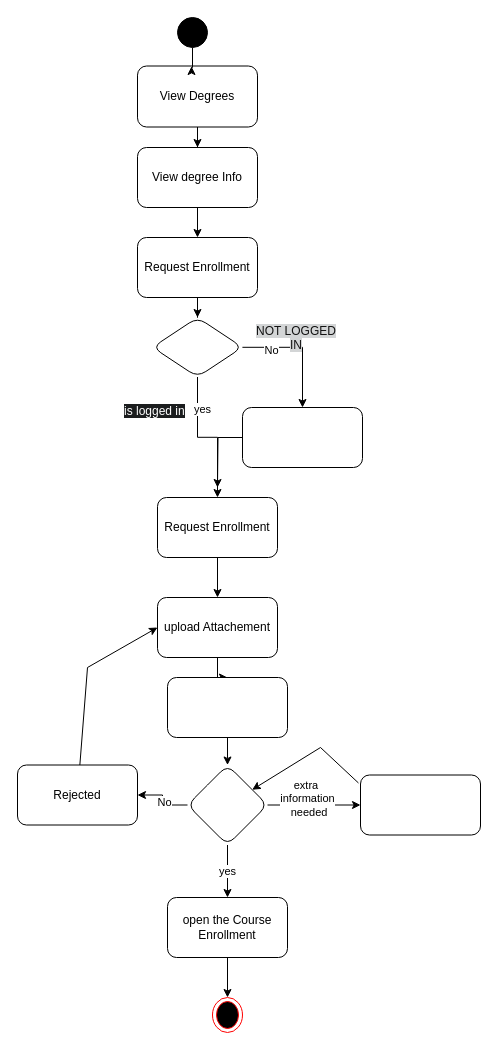
Image size: 498x1050. Some labels were removed from this diagram. Each missing label, with the centre of its shape:
"Apply" belongs at point (227, 707).
"Login" belongs at point (302, 437).
"Resubmit" belongs at point (420, 804).
